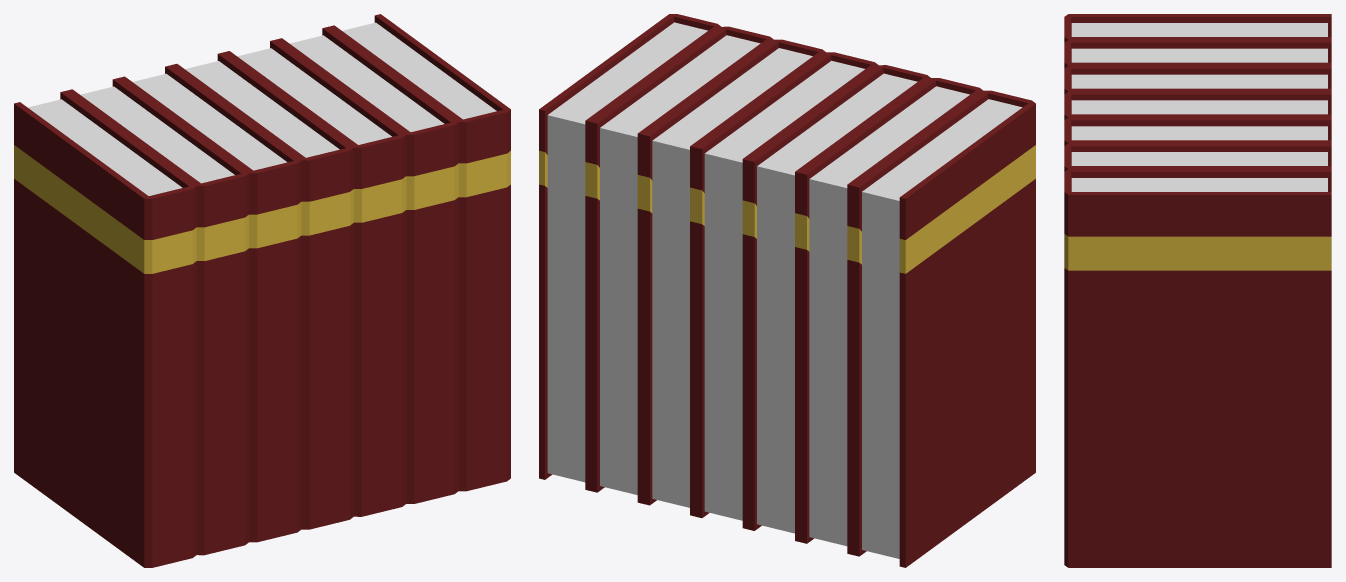
The model's file is encyclopedias.fbx.
3 views of the same model, side by side, from view 1: azimuth 30°, elevation 25°; view 2: azimuth 150°, elevation 25°; view 3: azimuth 270°, elevation 25° (orthographic).
Visible parts, largest first — view 1: Encyclopedias; view 2: Encyclopedias; view 3: Encyclopedias.
Boxes of the visible parts, x1,y1,x2,y2 form: Encyclopedias: [14, 14, 510, 567]; Encyclopedias: [539, 14, 1035, 567]; Encyclopedias: [1064, 14, 1331, 567].
Size of the model in its own units: 34.82 by 21.76 by 33.49.
